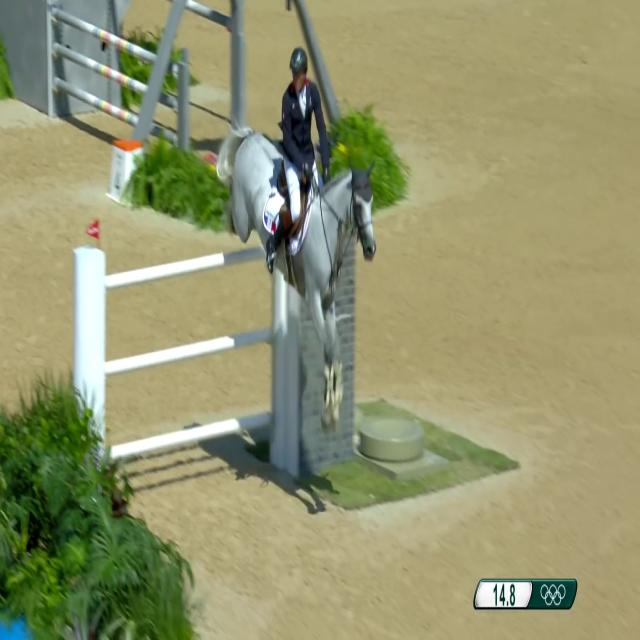Horse Jumping: (214, 111, 390, 432)
Horse Rider: (270, 34, 332, 260)
